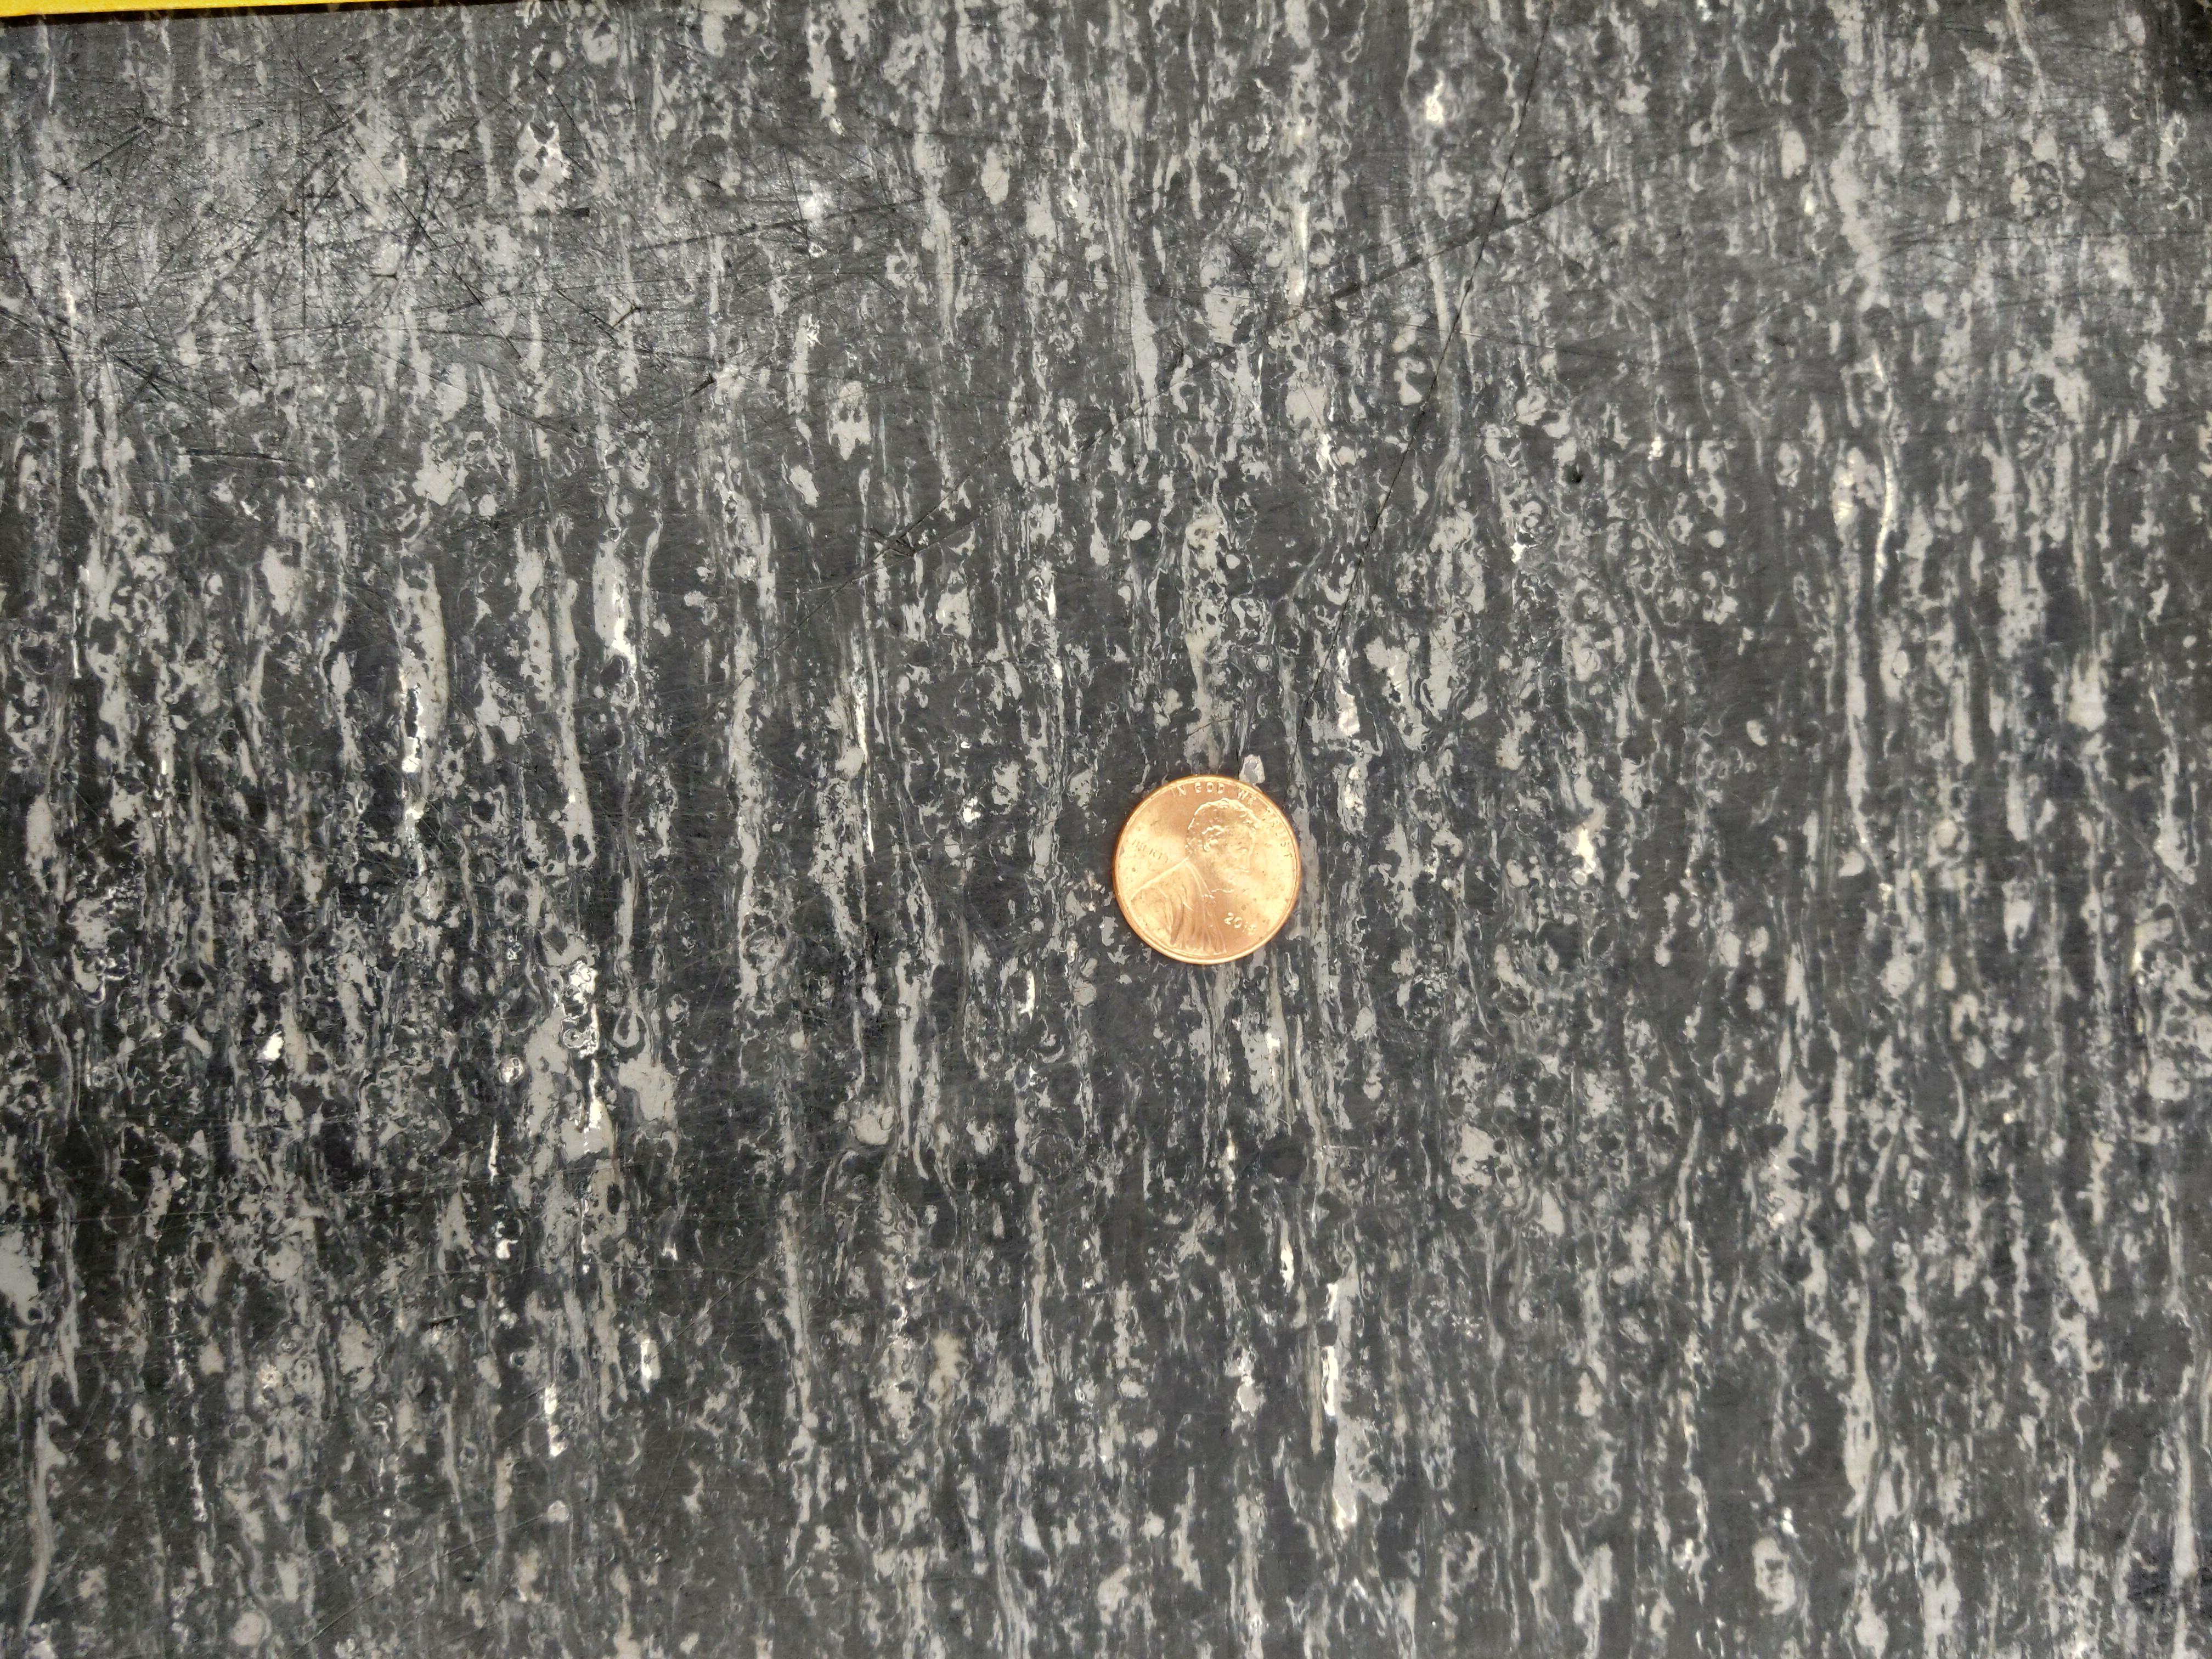Penny: (1111, 770, 1301, 965)
